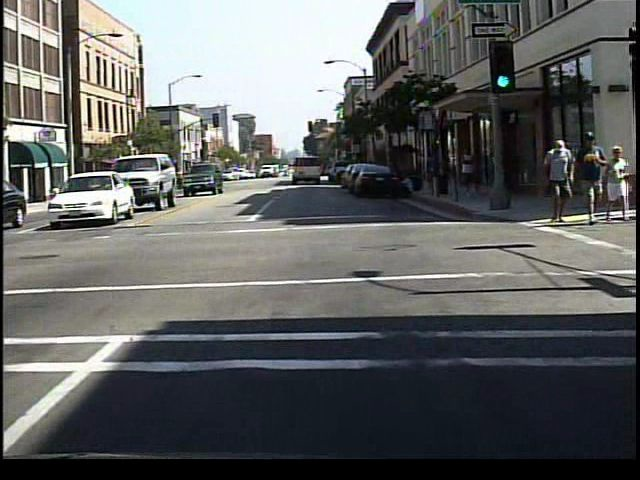person: (538, 137, 578, 229), (578, 127, 607, 229), (600, 141, 628, 225), (454, 144, 482, 202)
